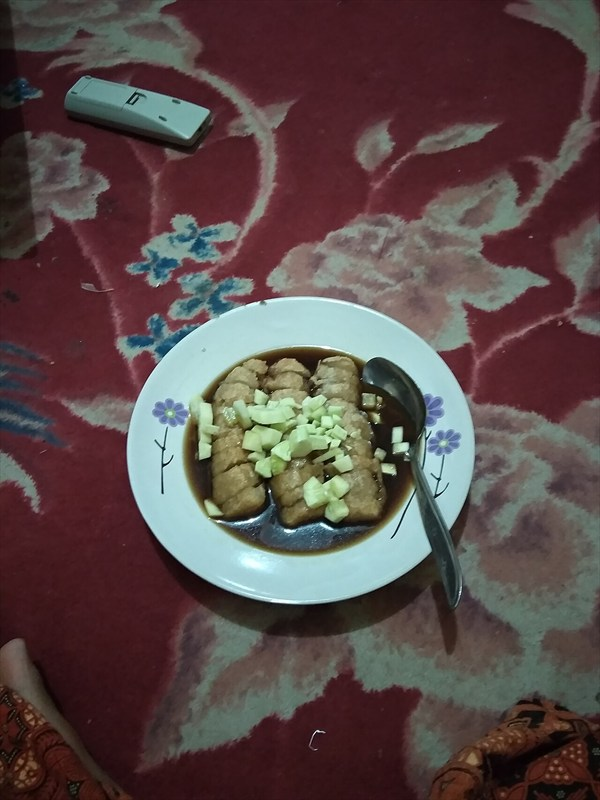Pempek: (118, 199, 475, 615)
